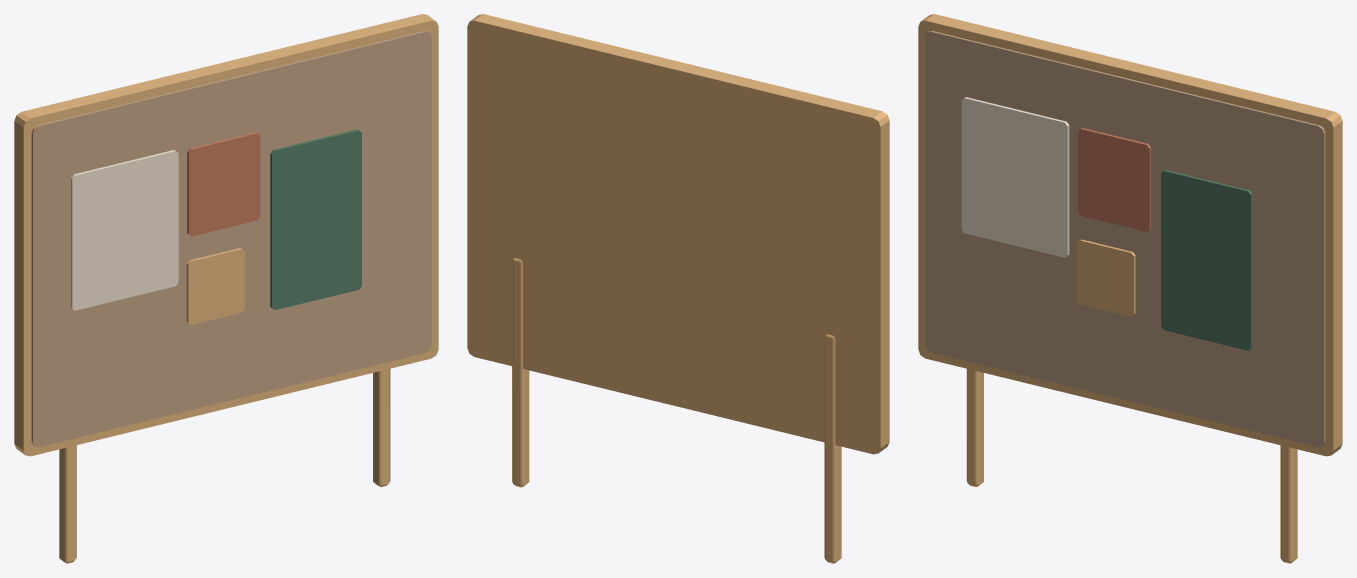
File: kit_pinboard_v1.glb
3 views of the same model, side by side, from view 1: azimuth 30°, elevation 25°; view 2: azimuth 150°, elevation 25°; view 3: azimuth 330°, elevation 25° (orthographic).
Parts seen in each view (by area): view 1: body; view 2: body; view 3: body.
Boxes of the visible parts, <box> form: body: <box>14,14,438,563</box>; body: <box>467,14,889,563</box>; body: <box>918,14,1342,563</box>.
Size of the model in its own units: 1.8 by 1.9 by 0.1.
